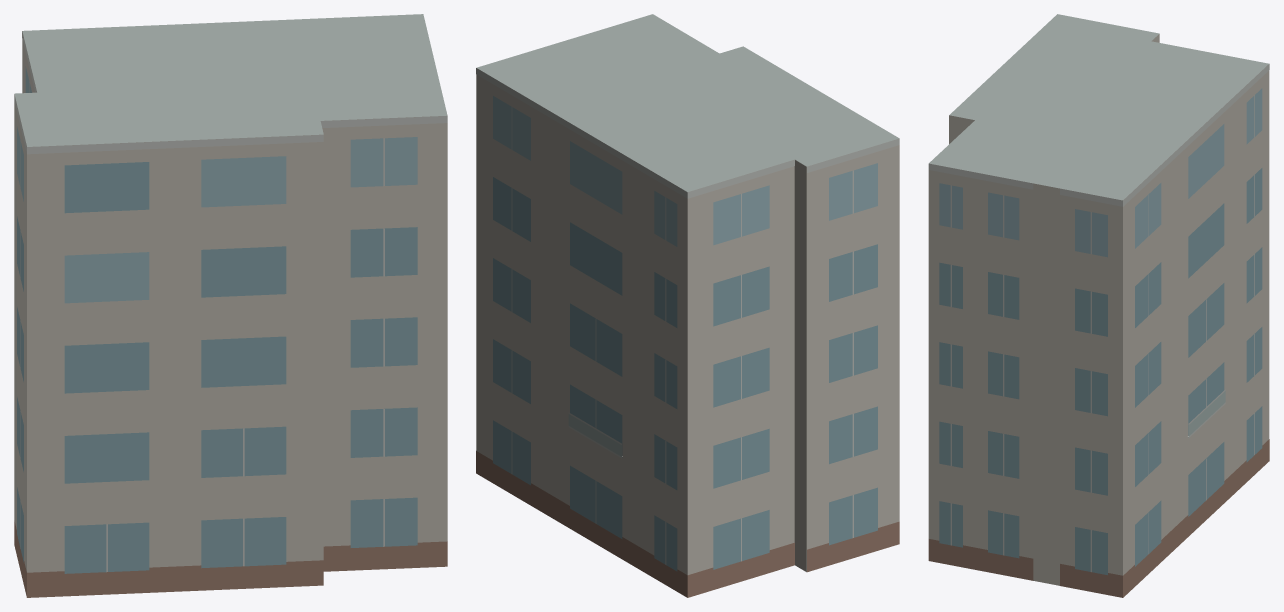
Rendered from survey-upis-32734933.glb.
The picture shows the model from 3 angles, left to right: view 1: azimuth 30°, elevation 25°; view 2: azimuth 150°, elevation 25°; view 3: azimuth 270°, elevation 25°; orthographic projection. The views are drawn at different scales.
Parts seen in each view (by area): view 1: survey-upis-32734933.tmp; view 2: survey-upis-32734933.tmp; view 3: survey-upis-32734933.tmp.
Boxes of the visible parts, x1,y1,x2,y2 form: survey-upis-32734933.tmp: (14, 14, 447, 597); survey-upis-32734933.tmp: (476, 14, 899, 597); survey-upis-32734933.tmp: (928, 14, 1269, 597).
Size of the model in its own units: 15.2 by 15.1 by 11.75.
